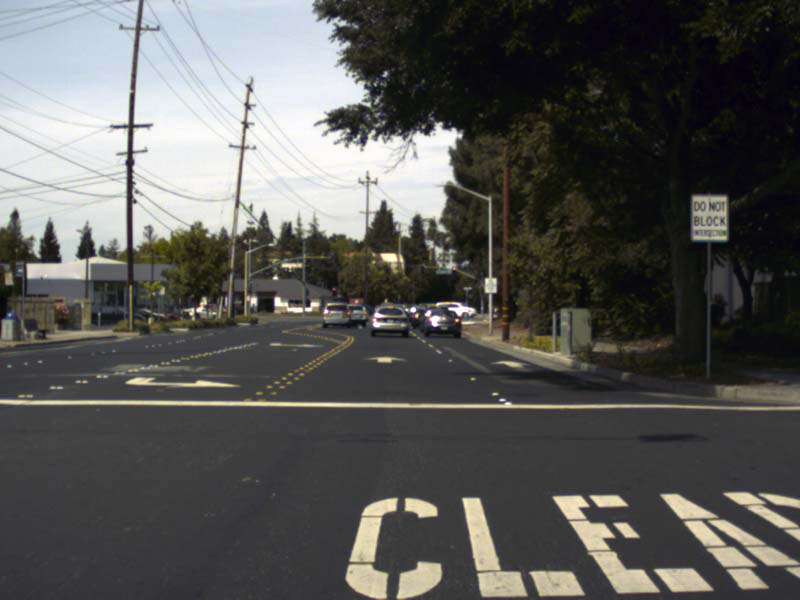Red: (330, 284, 338, 297)
